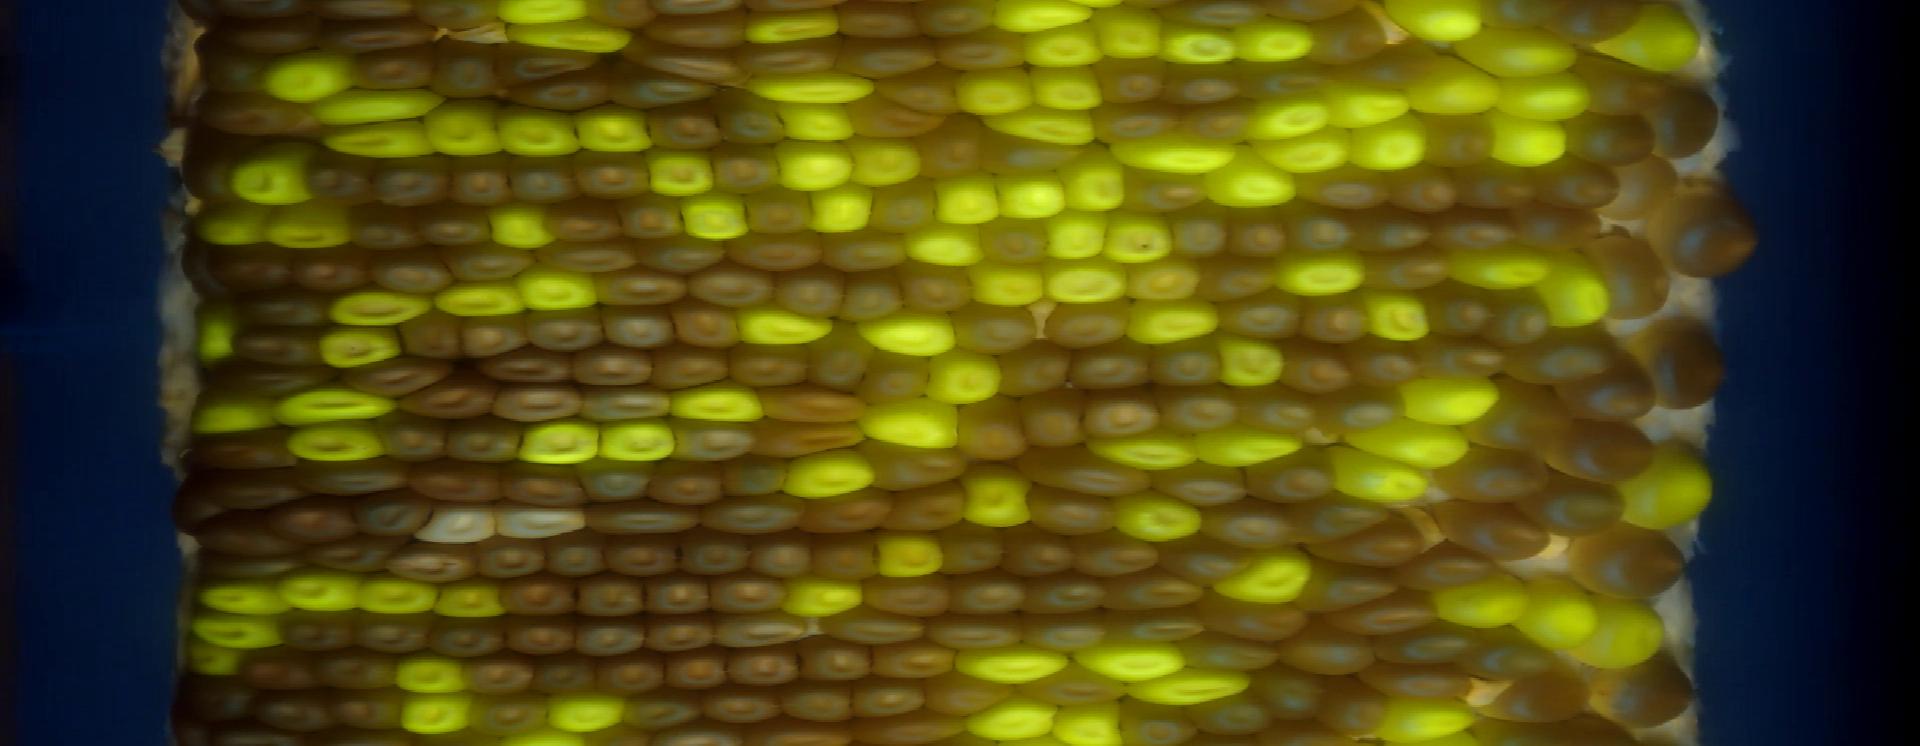fluorescent: (1608, 443, 1720, 537), (1215, 543, 1335, 608), (1307, 450, 1435, 507), (1104, 668, 1262, 713), (1109, 122, 1240, 176), (1463, 27, 1586, 83), (1582, 593, 1673, 668), (228, 149, 336, 212), (1389, 372, 1507, 429), (1611, 2, 1703, 75), (1538, 246, 1614, 333), (1498, 61, 1600, 125), (1109, 488, 1213, 550), (496, 96, 584, 169), (1344, 423, 1479, 470), (1204, 149, 1308, 211), (855, 303, 960, 363), (958, 638, 1071, 693), (268, 381, 402, 428), (1449, 233, 1550, 293), (954, 464, 1042, 533), (1520, 577, 1599, 653), (493, 17, 638, 59), (309, 82, 456, 122), (508, 412, 609, 470), (1344, 109, 1431, 176), (258, 44, 351, 107), (1408, 56, 1502, 118), (419, 99, 512, 160), (1433, 577, 1540, 630), (538, 680, 636, 737), (268, 195, 358, 257), (860, 397, 965, 450), (956, 693, 1062, 746), (1269, 247, 1371, 301), (868, 519, 954, 583), (1091, 429, 1204, 477), (1038, 254, 1135, 309), (331, 281, 442, 328), (1384, 2, 1498, 49), (776, 446, 877, 499), (768, 137, 857, 196), (1378, 695, 1483, 744), (898, 219, 991, 274), (1078, 639, 1194, 684), (1324, 76, 1414, 132), (840, 135, 931, 191), (388, 643, 482, 697), (984, 104, 1100, 148), (324, 118, 433, 164), (924, 345, 1007, 407), (513, 258, 600, 316), (284, 416, 386, 465), (1251, 127, 1356, 175), (749, 72, 883, 109), (1210, 330, 1289, 391), (1124, 295, 1224, 343), (493, 497, 593, 545), (1100, 208, 1177, 269), (1244, 91, 1333, 143), (966, 256, 1051, 311), (1191, 425, 1307, 465), (566, 107, 660, 156), (317, 317, 407, 369), (666, 382, 773, 425), (996, 165, 1073, 224), (640, 141, 719, 198), (738, 1, 846, 43), (802, 178, 876, 238), (1360, 292, 1446, 343), (193, 577, 296, 620), (931, 170, 1007, 228), (182, 612, 298, 650), (1239, 13, 1318, 69), (594, 414, 680, 464), (272, 563, 358, 614), (1491, 113, 1571, 167), (433, 274, 523, 322), (947, 65, 1033, 114), (398, 688, 482, 739), (433, 575, 519, 624), (349, 571, 441, 616), (736, 303, 833, 345), (1067, 151, 1129, 217), (1030, 60, 1109, 111), (422, 499, 498, 552), (771, 100, 866, 143), (482, 198, 560, 250), (197, 390, 278, 439), (680, 190, 754, 243), (1156, 18, 1240, 65), (779, 575, 867, 619), (1049, 206, 1109, 269), (1024, 20, 1103, 67), (1092, 7, 1163, 60), (991, 1, 1098, 34), (197, 205, 276, 249), (1051, 703, 1130, 746), (493, 2, 596, 27), (189, 643, 253, 677), (204, 323, 235, 372)
nonfluorescent: (1651, 183, 1771, 281), (1567, 522, 1697, 601), (1434, 488, 1562, 565), (1631, 322, 1735, 412), (1597, 655, 1703, 737), (1509, 317, 1624, 392), (1581, 233, 1678, 318), (1010, 448, 1151, 501), (1471, 375, 1569, 450), (1194, 582, 1318, 641), (623, 36, 767, 86), (1554, 418, 1665, 481), (981, 122, 1093, 181), (298, 450, 424, 501), (1578, 45, 1660, 122), (1100, 562, 1205, 622), (1472, 668, 1594, 719), (1531, 478, 1633, 538), (1435, 451, 1558, 501), (1020, 477, 1120, 538), (404, 454, 508, 513), (1194, 496, 1304, 551), (926, 521, 1019, 586), (1392, 541, 1500, 597), (1333, 590, 1442, 644), (864, 435, 969, 491), (1152, 535, 1258, 590), (431, 240, 552, 288), (184, 424, 305, 472), (756, 382, 879, 429), (1293, 557, 1397, 612), (1455, 157, 1551, 216), (1373, 619, 1480, 671), (872, 64, 975, 119), (1418, 281, 1505, 345), (1025, 659, 1131, 712), (1296, 165, 1400, 219), (1277, 628, 1391, 677), (1545, 4, 1675, 47), (207, 238, 298, 299), (992, 522, 1084, 582), (571, 143, 660, 205), (1078, 386, 1171, 445), (1318, 523, 1435, 570), (1210, 295, 1318, 345), (698, 486, 808, 535), (181, 137, 256, 209), (624, 229, 740, 276), (584, 499, 699, 545), (662, 413, 762, 467), (1070, 530, 1167, 586), (607, 59, 719, 107), (1177, 627, 1288, 675), (520, 303, 615, 359), (722, 230, 836, 277), (1565, 111, 1665, 164), (1575, 366, 1667, 424), (1347, 202, 1445, 256), (1484, 285, 1562, 353), (371, 154, 467, 209), (1220, 198, 1299, 265), (320, 16, 442, 59), (304, 146, 386, 209), (587, 265, 693, 314), (779, 260, 853, 330), (387, 538, 484, 592), (197, 96, 315, 140), (1416, 107, 1504, 165), (975, 208, 1063, 267), (898, 255, 977, 320), (954, 397, 1033, 462), (1119, 160, 1215, 214), (945, 299, 1041, 353), (814, 604, 924, 650), (1656, 77, 1718, 159), (991, 339, 1078, 398), (721, 338, 812, 394), (1041, 295, 1135, 349), (1120, 699, 1229, 746), (220, 12, 321, 62), (479, 343, 582, 392), (1247, 450, 1344, 501), (693, 260, 782, 316), (502, 145, 580, 208), (731, 36, 847, 78), (1513, 203, 1618, 251), (834, 34, 947, 78), (572, 448, 656, 507), (1160, 197, 1233, 265), (749, 418, 868, 459), (1155, 381, 1240, 439), (1296, 292, 1378, 352), (1281, 337, 1358, 401), (576, 376, 678, 424), (345, 198, 429, 257), (291, 245, 375, 304), (807, 532, 898, 586), (1014, 390, 1093, 451), (1234, 380, 1322, 435), (820, 224, 917, 274), (231, 327, 333, 375), (1536, 159, 1630, 211), (713, 86, 789, 149), (369, 409, 454, 465), (649, 9, 756, 54), (917, 119, 994, 181), (508, 69, 617, 113), (798, 488, 894, 538), (741, 186, 828, 241), (864, 176, 944, 236), (496, 37, 613, 77), (593, 301, 681, 355), (539, 234, 640, 281), (1433, 208, 1524, 260), (1155, 461, 1247, 512), (918, 612, 1029, 655), (444, 414, 527, 472), (1183, 699, 1299, 740), (936, 27, 1033, 75), (365, 250, 460, 299), (1319, 387, 1412, 437), (1292, 492, 1392, 539), (884, 488, 984, 534), (857, 572, 958, 619), (617, 190, 698, 247), (1362, 659, 1473, 701), (1242, 56, 1341, 103), (238, 287, 339, 332), (699, 567, 789, 619), (1468, 630, 1558, 681), (845, 96, 949, 140), (1420, 337, 1507, 390), (502, 567, 583, 624), (496, 461, 587, 511), (324, 684, 415, 734), (1310, 9, 1389, 66), (669, 295, 747, 353), (202, 470, 310, 512), (1079, 339, 1158, 396), (1151, 337, 1231, 393), (920, 673, 1021, 717), (947, 565, 1033, 616), (1015, 611, 1119, 654), (708, 140, 789, 195), (398, 379, 493, 425), (1609, 162, 1687, 218), (1177, 98, 1262, 149), (447, 151, 520, 211), (347, 353, 449, 396), (1344, 338, 1418, 398), (456, 304, 530, 363), (310, 644, 399, 693), (1289, 203, 1365, 261), (344, 50, 452, 91), (433, 40, 516, 93), (250, 692, 338, 741), (1202, 251, 1277, 309), (1391, 160, 1467, 217), (591, 646, 667, 702), (644, 99, 729, 149), (482, 381, 584, 423), (573, 570, 647, 627), (647, 457, 729, 508), (470, 537, 561, 583), (540, 198, 626, 247), (1251, 669, 1335, 719), (1089, 99, 1183, 143), (744, 534, 831, 582), (271, 609, 358, 657), (642, 570, 720, 622), (711, 609, 817, 648), (860, 352, 934, 407), (567, 344, 658, 390), (1356, 43, 1444, 89), (600, 530, 688, 577), (460, 699, 568, 737), (720, 643, 803, 692), (651, 339, 730, 391), (811, 325, 869, 393), (860, 707, 962, 746), (1318, 680, 1393, 733), (876, 637, 961, 684), (1168, 64, 1258, 108), (396, 307, 465, 364), (800, 635, 876, 686), (429, 612, 508, 661), (771, 686, 867, 726), (718, 453, 796, 502), (833, 1, 924, 43), (656, 649, 738, 696), (447, 653, 535, 696), (419, 205, 500, 251), (178, 677, 252, 728), (840, 269, 904, 328), (680, 530, 756, 579), (546, 530, 613, 586), (1108, 611, 1218, 644), (1041, 570, 1108, 624), (242, 643, 315, 693), (573, 614, 649, 661), (355, 609, 431, 657), (220, 363, 328, 396), (203, 514, 294, 554), (279, 499, 360, 540), (850, 676, 931, 718), (534, 650, 602, 699), (1367, 254, 1455, 292), (640, 614, 718, 657), (305, 538, 392, 576), (620, 693, 709, 730), (1098, 58, 1171, 103), (1164, 2, 1275, 32), (214, 44, 271, 100), (356, 491, 431, 533), (918, 1, 998, 39), (700, 688, 784, 724), (200, 556, 313, 582), (503, 622, 587, 657), (587, 1, 656, 32), (178, 488, 212, 535)
